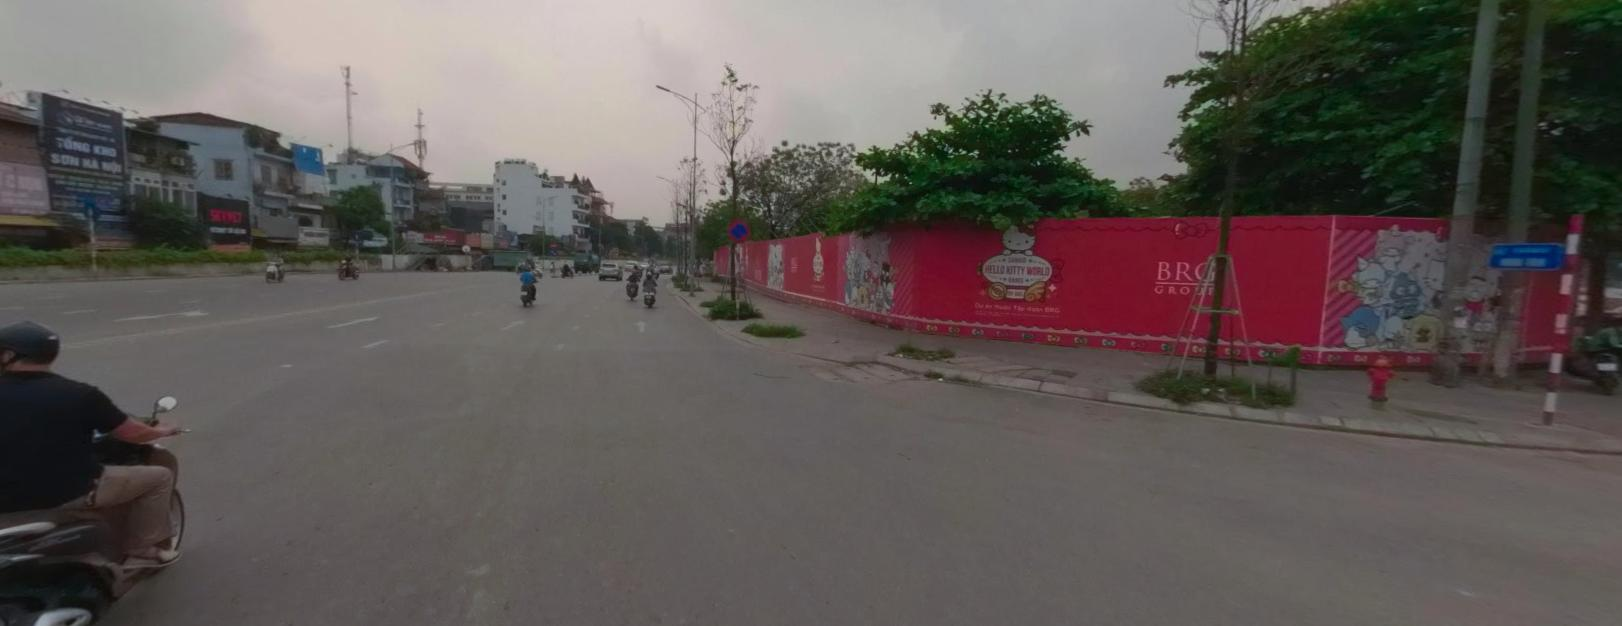Cam dung va do: (728, 218, 750, 241), (728, 217, 749, 241)
Cam nguoc chieu: (549, 240, 555, 245)
Hieu lenh: (550, 248, 555, 254)
